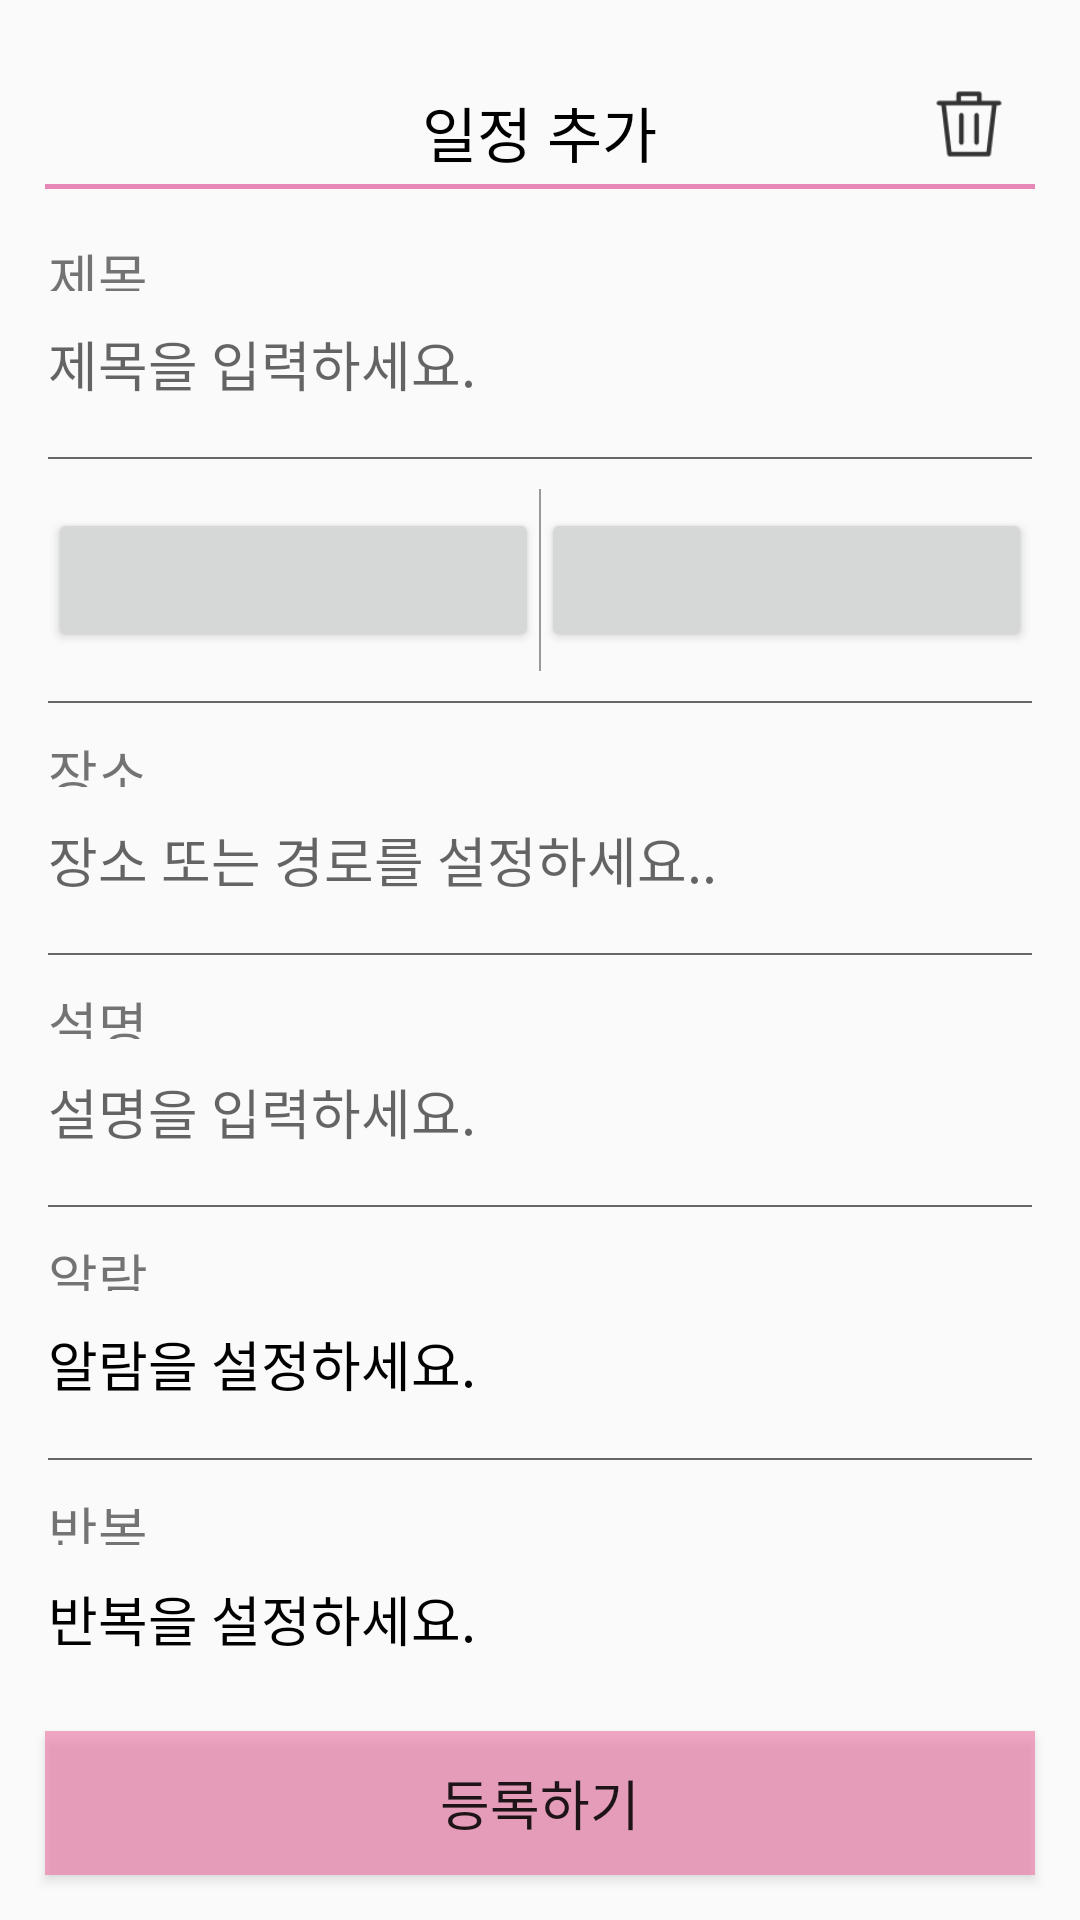

Icon bounding boxes for this 1080x1920 phone screenshot, format {"left": x1, "top": y1, "right": x2, "bottom": y2}:
delete: {"left": 936, "top": 91, "right": 1002, "bottom": 157}
